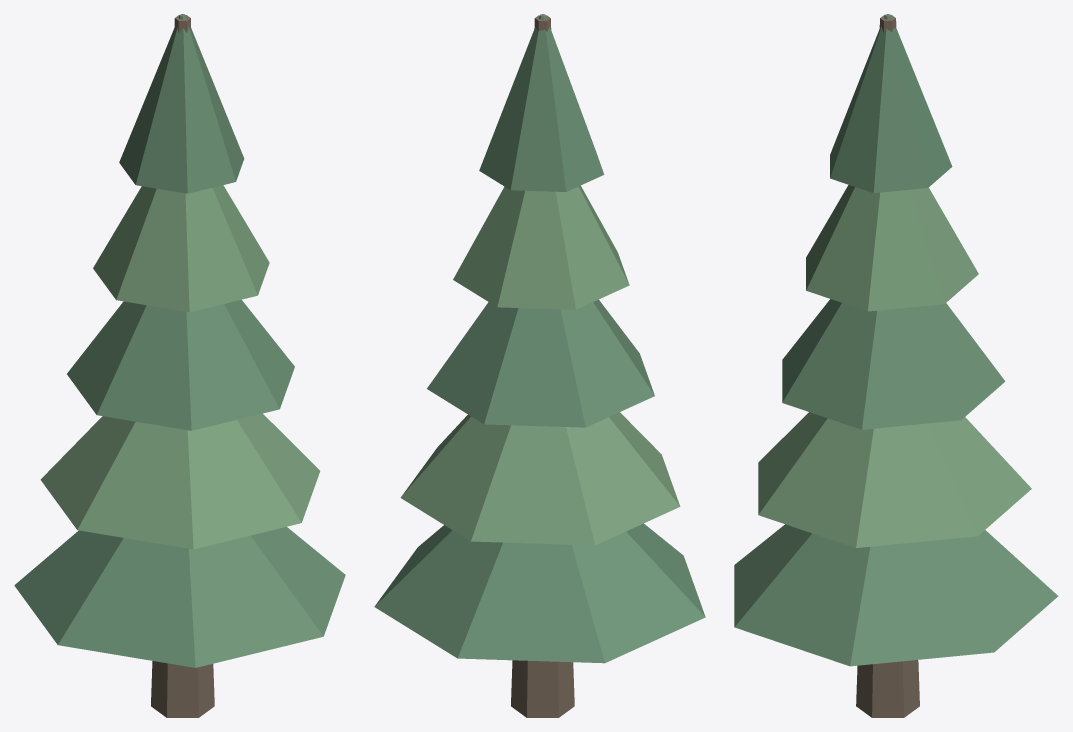
Rendered from pine_v22.glb.
3 renders of one model, left to right at view 1: azimuth 30°, elevation 25°; view 2: azimuth 150°, elevation 25°; view 3: azimuth 270°, elevation 25°, orthographic.
Visible parts, largest first — view 1: lod0; view 2: lod0; view 3: lod0.
Boxes of the visible parts, x1,y1,x2,y2 form: lod0: (14, 14, 345, 717); lod0: (374, 14, 705, 717); lod0: (734, 14, 1058, 717).
Size of what is drawn, in the model's own units: 2.08 by 4.77 by 2.03.
